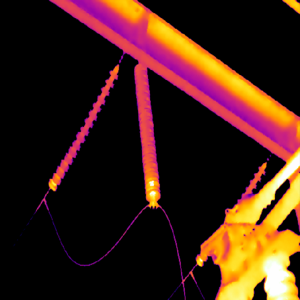insulator: (47, 66, 119, 190), (133, 61, 161, 202)
